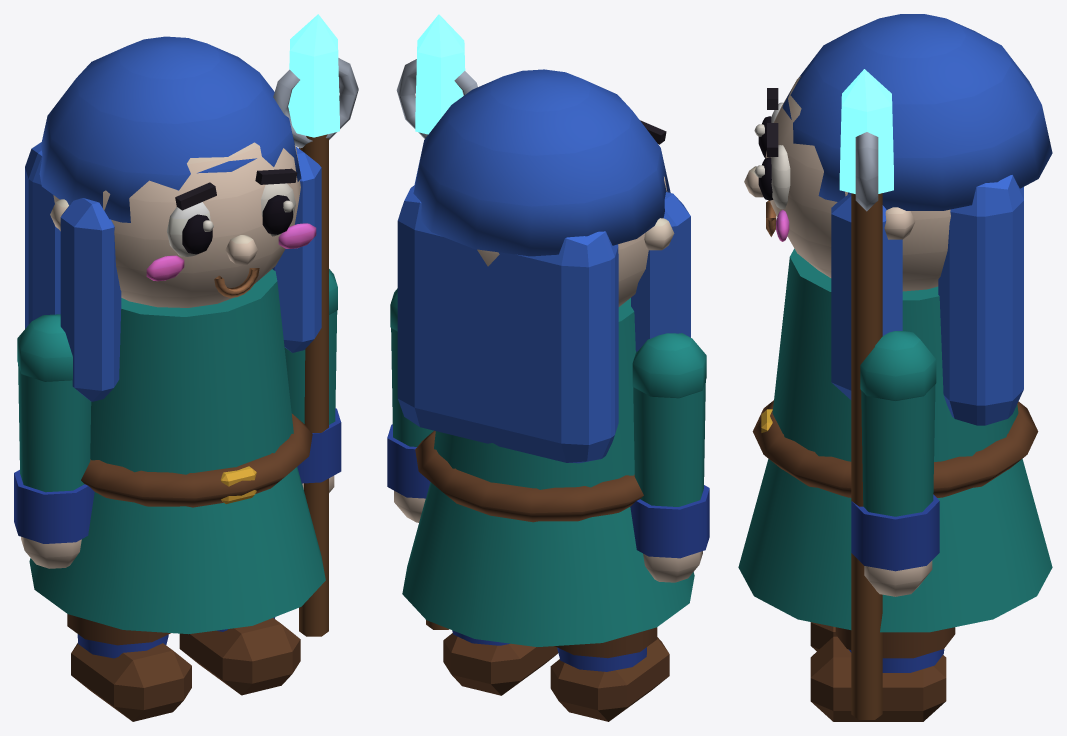
The model's file is hero_ondine.glb.
3 views of the same model, side by side, from view 1: azimuth 30°, elevation 25°; view 2: azimuth 150°, elevation 25°; view 3: azimuth 270°, elevation 25° (orthographic). The views are drawn at different scales.
Parts seen in each view (by area): view 1: body_t0_palette, arml_t0_palette, armr_t0_palette, legl_t0_palette, legr_t0_palette, armr_t0_crystal_teal; view 2: body_t0_palette, arml_t0_palette, legl_t0_palette, armr_t0_palette, legr_t0_palette, armr_t0_crystal_teal; view 3: body_t0_palette, armr_t0_palette, legr_t0_palette, armr_t0_crystal_teal, legl_t0_palette.
Part boxes in pixels (bbox=[...]): body_t0_palette: bbox=[25, 36, 325, 634]; arml_t0_palette: bbox=[14, 314, 94, 568]; armr_t0_palette: bbox=[273, 58, 358, 636]; legl_t0_palette: bbox=[67, 614, 191, 721]; legr_t0_palette: bbox=[179, 617, 300, 695]; armr_t0_crystal_teal: bbox=[288, 14, 339, 137]; body_t0_palette: bbox=[397, 69, 694, 646]; arml_t0_palette: bbox=[630, 333, 709, 582]; legl_t0_palette: bbox=[550, 627, 669, 721]; armr_t0_palette: bbox=[387, 59, 477, 629]; legr_t0_palette: bbox=[443, 630, 558, 695]; armr_t0_crystal_teal: bbox=[415, 14, 465, 134]; body_t0_palette: bbox=[738, 14, 1052, 632]; armr_t0_palette: bbox=[851, 132, 939, 719]; legr_t0_palette: bbox=[810, 627, 955, 721]; armr_t0_crystal_teal: bbox=[839, 69, 893, 193]; legl_t0_palette: bbox=[810, 622, 836, 651].
Size of the model in its own units: 0.277 by 0.525 by 0.22.
